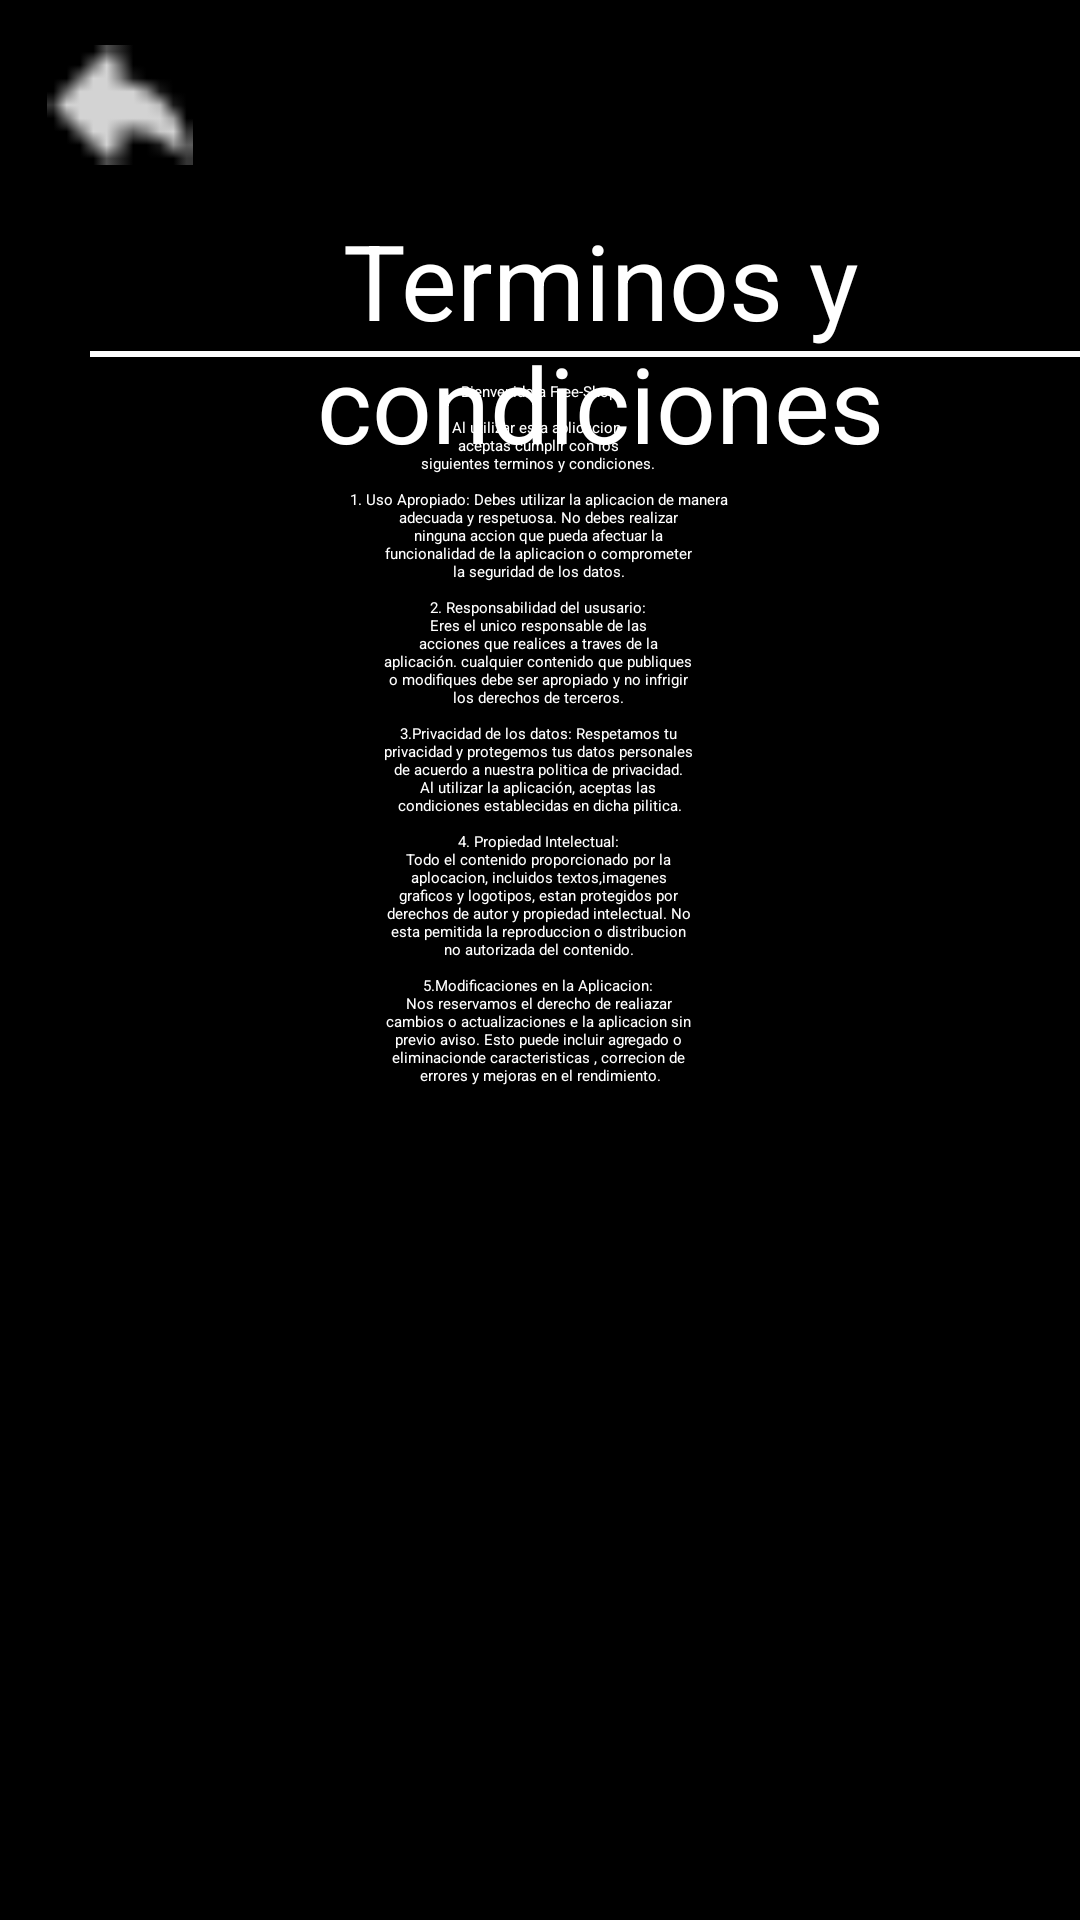

Icon click points for this 1080px×1920px phone screenshot, format (x,y):
flecha: (120,105)
